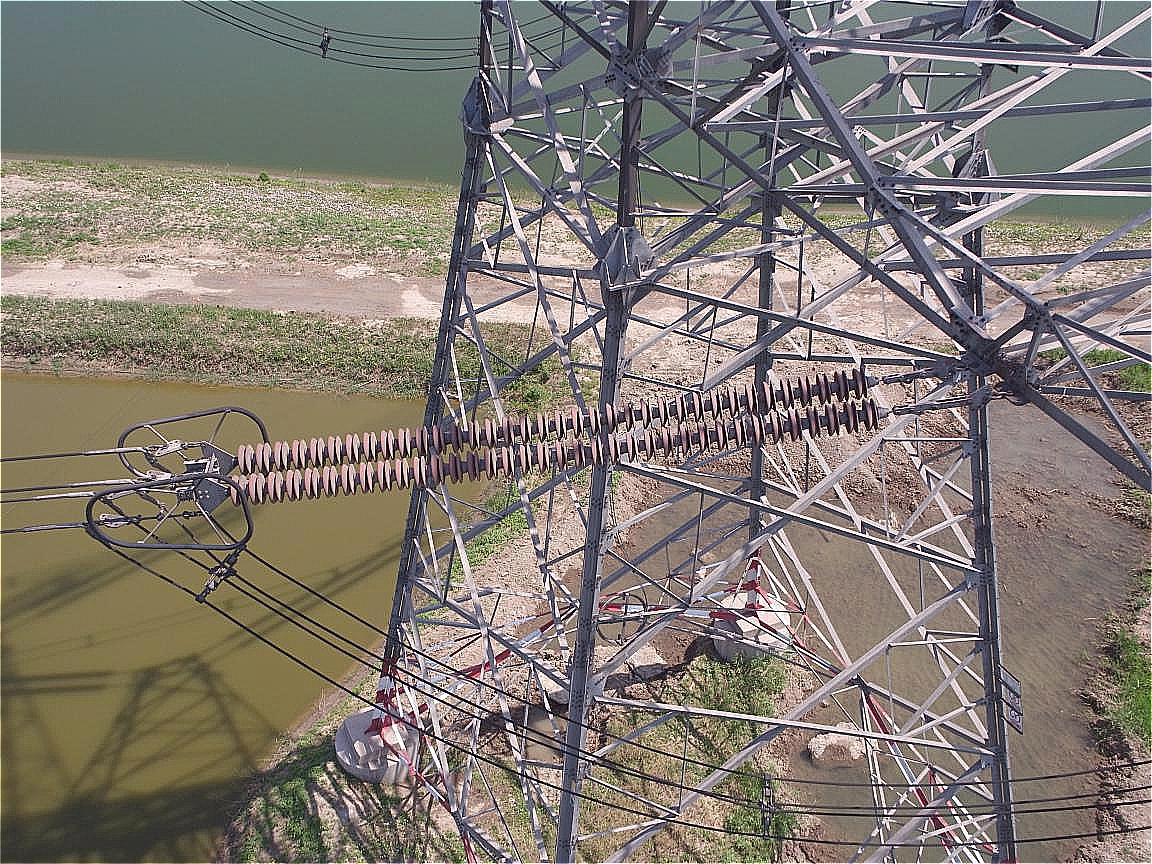insultor2: (230, 370, 880, 504)
